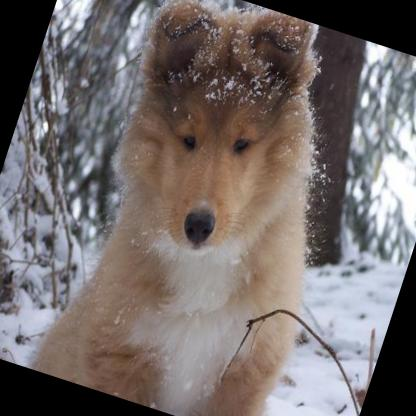collie: (31, 0, 390, 416)
